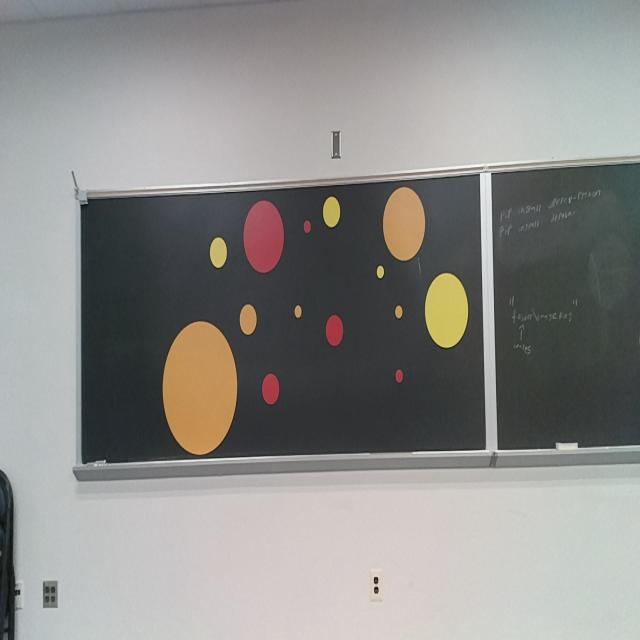Orange: (162, 319, 238, 456), (382, 186, 426, 262), (239, 302, 258, 335), (294, 304, 302, 318), (395, 306, 403, 320)
Red: (242, 200, 285, 276), (261, 373, 279, 406), (325, 315, 343, 347), (395, 369, 403, 384), (303, 220, 311, 233)
Yellow: (424, 271, 469, 348), (322, 195, 341, 228), (209, 236, 227, 268), (376, 264, 384, 278)
